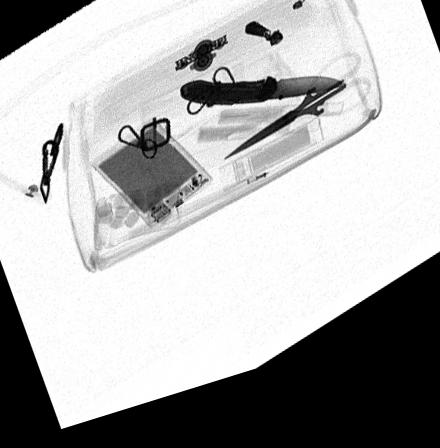Knife: (180, 91, 343, 119)
Powerbank: (90, 125, 214, 240)
Scissors: (226, 75, 371, 174)
